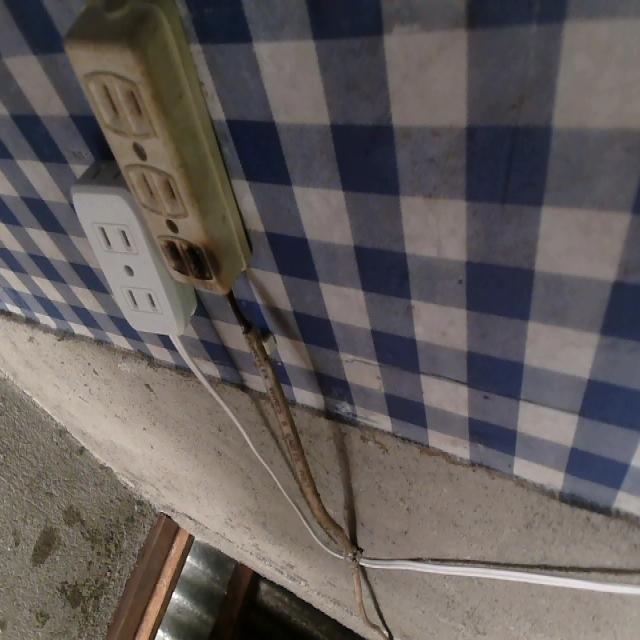-: (152, 221, 221, 292)
